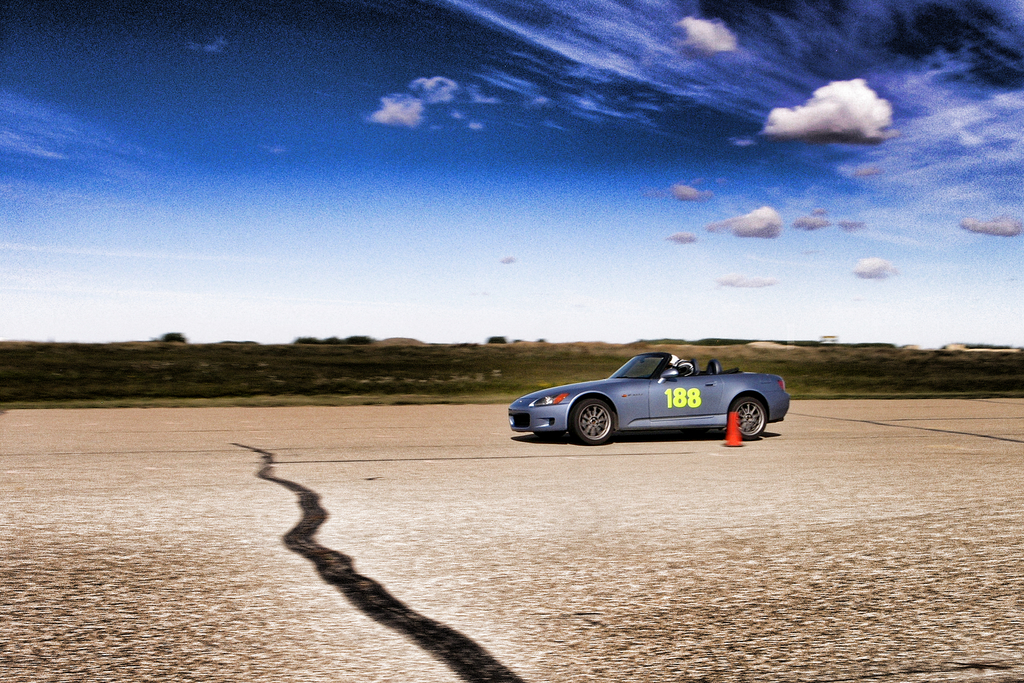Car: (505, 351, 787, 444)
